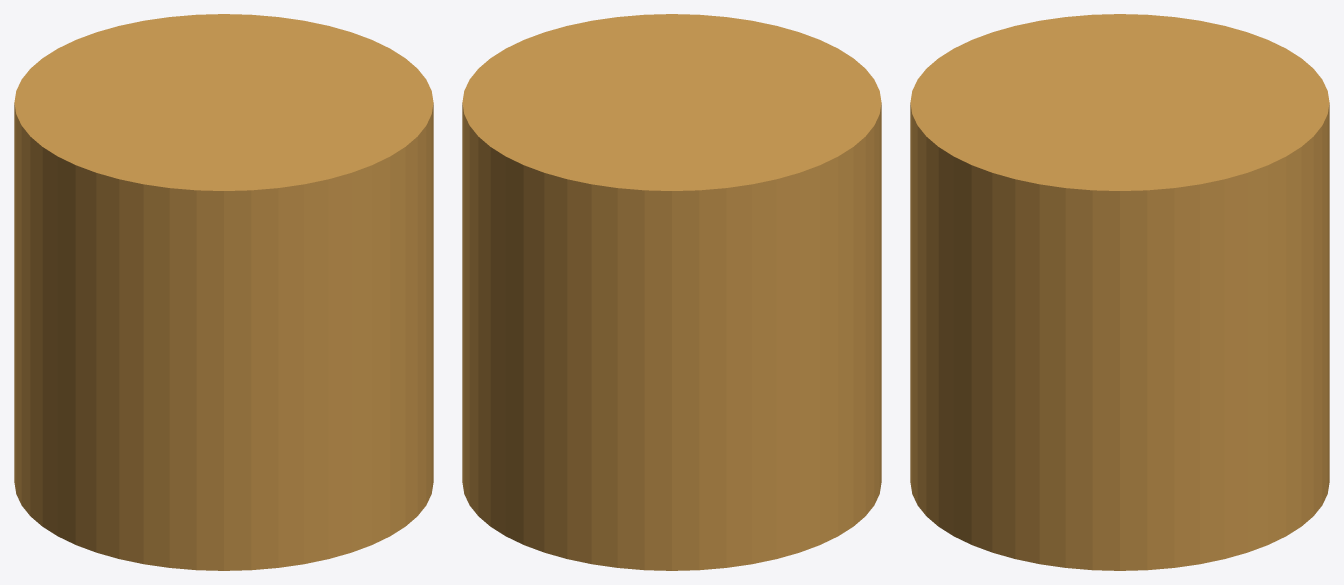
3 views of the same model, side by side, from view 1: azimuth 30°, elevation 25°; view 2: azimuth 150°, elevation 25°; view 3: azimuth 270°, elevation 25° (orthographic).
Visible parts, largest first — view 1: Mesh_Mesh_head_geo.001_lambert2SG.001; view 2: Mesh_Mesh_head_geo.001_lambert2SG.001; view 3: Mesh_Mesh_head_geo.001_lambert2SG.001.
Boxes of the visible parts, <box> form: Mesh_Mesh_head_geo.001_lambert2SG.001: <box>14,14,433,570</box>; Mesh_Mesh_head_geo.001_lambert2SG.001: <box>462,14,881,570</box>; Mesh_Mesh_head_geo.001_lambert2SG.001: <box>910,14,1329,570</box>.
Bounding box in the file's own units: 0.075 × 0.075 × 0.075.
